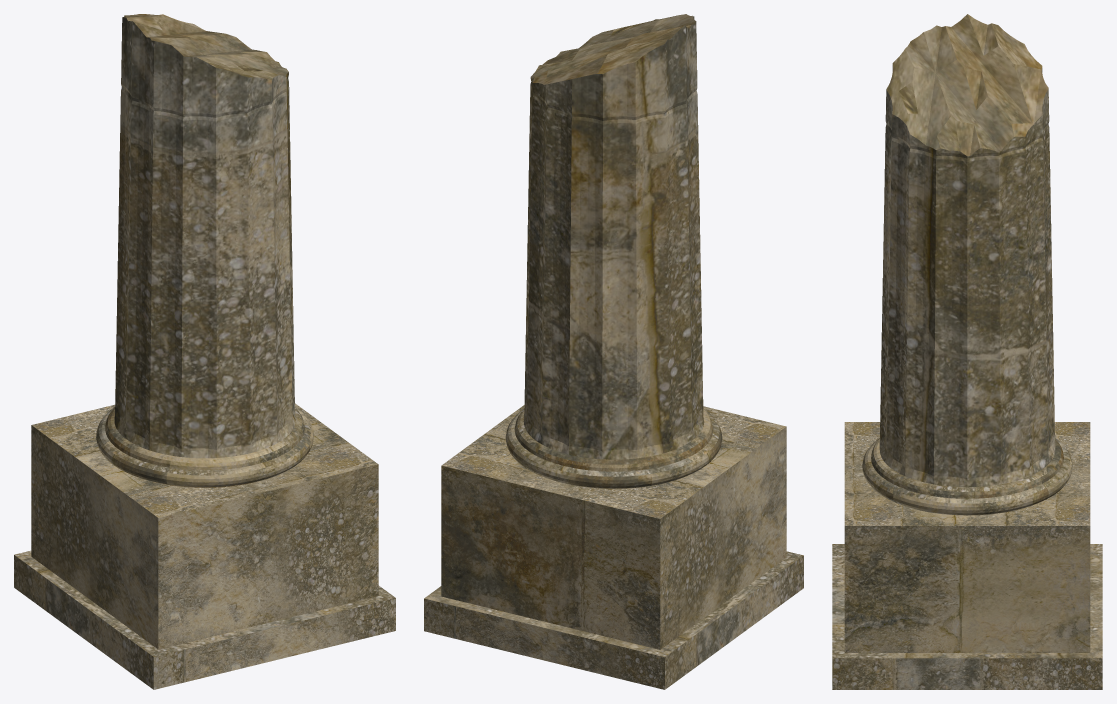
The model's file is Pillar broken short 1.fbx.
The picture shows the model from 3 angles, left to right: view 1: azimuth 30°, elevation 25°; view 2: azimuth 150°, elevation 25°; view 3: azimuth 270°, elevation 25°; orthographic projection. The views are drawn at different scales.
Parts seen in each view (by area): view 1: Pillar broken short 1; view 2: Pillar broken short 1; view 3: Pillar broken short 1.
Boxes of the visible parts, x1=… form: Pillar broken short 1: x1=14, y1=14, x2=395, y2=689; Pillar broken short 1: x1=424, y1=14, x2=803, y2=689; Pillar broken short 1: x1=832, y1=14, x2=1102, y2=689.
Size of the model in its own units: 308 by 736 by 308.
